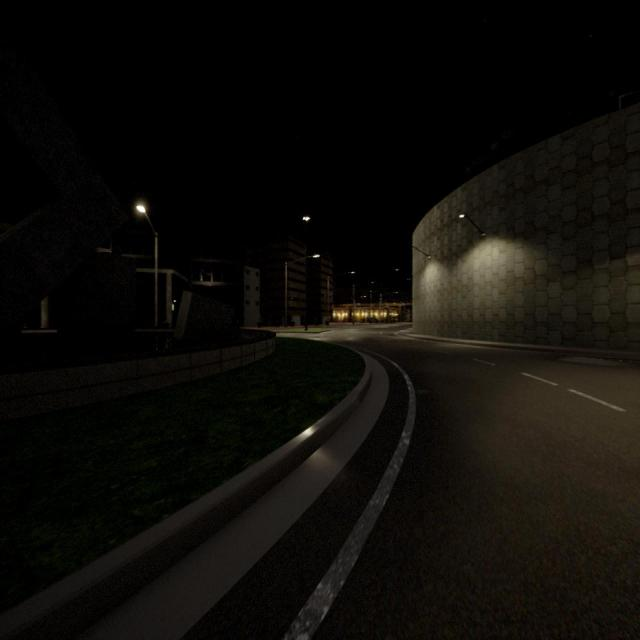Vehicle: (368, 317, 378, 323)
